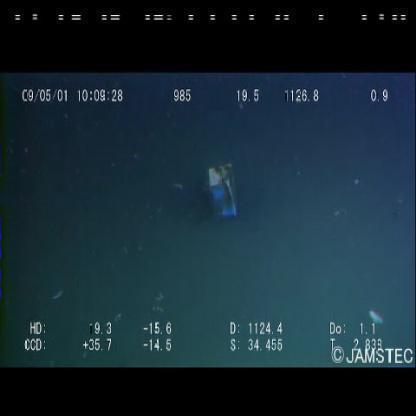Rác: (204, 165, 240, 220)
